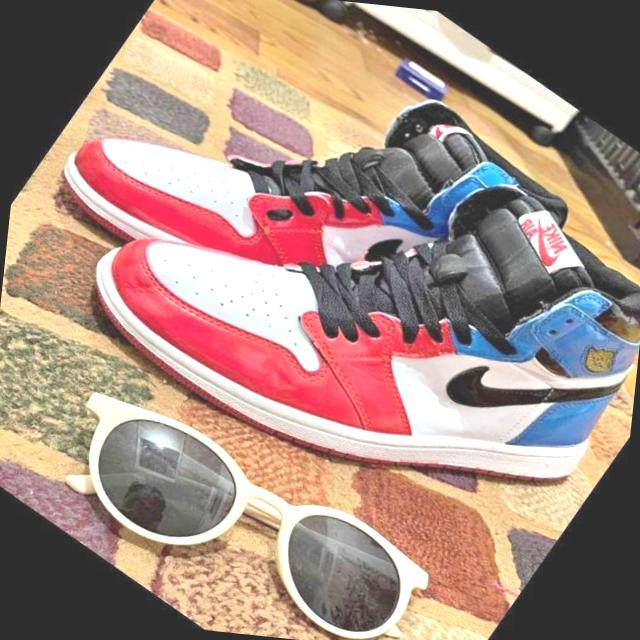nike_fake_jordan: (36, 0, 640, 614), (20, 0, 594, 457)
